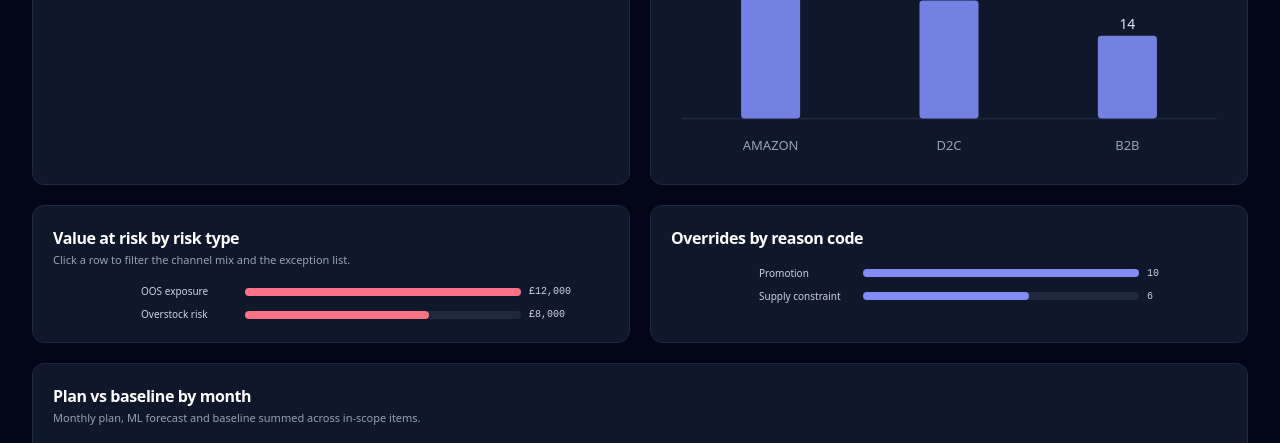
Scenario: BiPage › filters the channel mix from a risk row
(page scrolled)
Step 1. Click the button with aria-label "Filter by risk type OOS exposure" → point(356, 291), box [141,284,571,298]
(page scrolled)
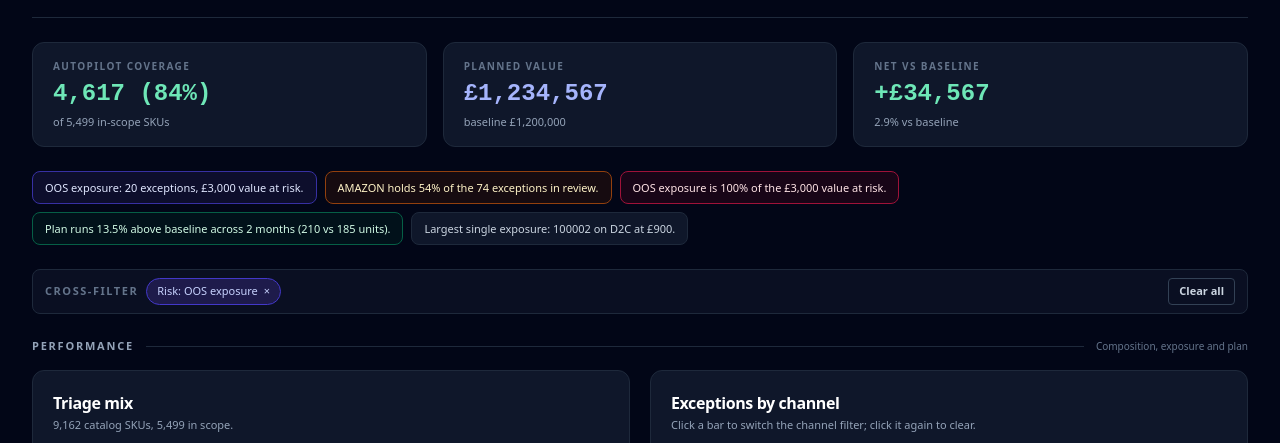
Expected: the button with test id "bi-filter-risk" shows "Risk: OOS exposure", [146,278,281,305]
